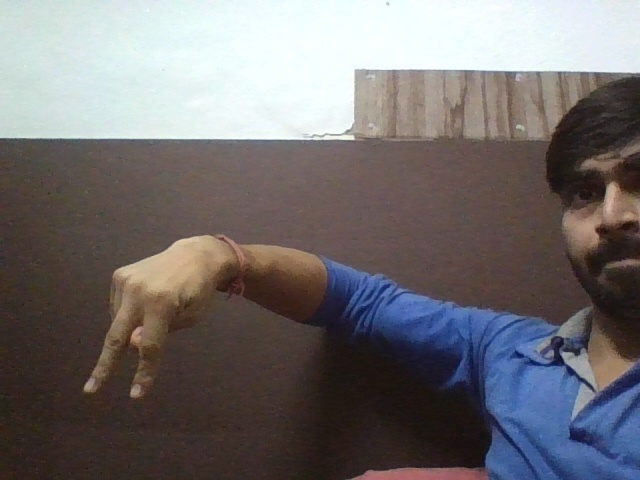P: (69, 244, 227, 407)
